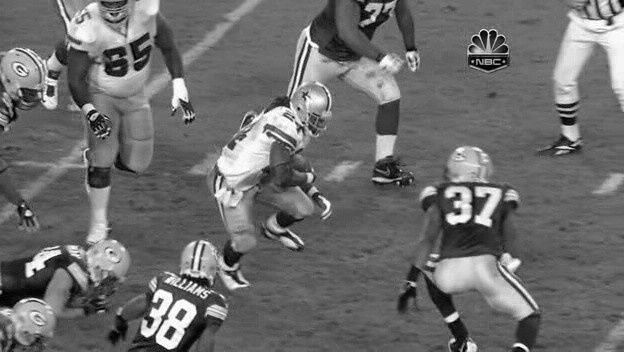person: (295, 85, 331, 134), (294, 85, 330, 134), (296, 85, 332, 134), (295, 84, 331, 133), (295, 86, 331, 135)
target_negative: (73, 251, 527, 305), (403, 27, 440, 254), (92, 98, 172, 160), (221, 239, 523, 248), (498, 186, 515, 327), (609, 320, 617, 337)
